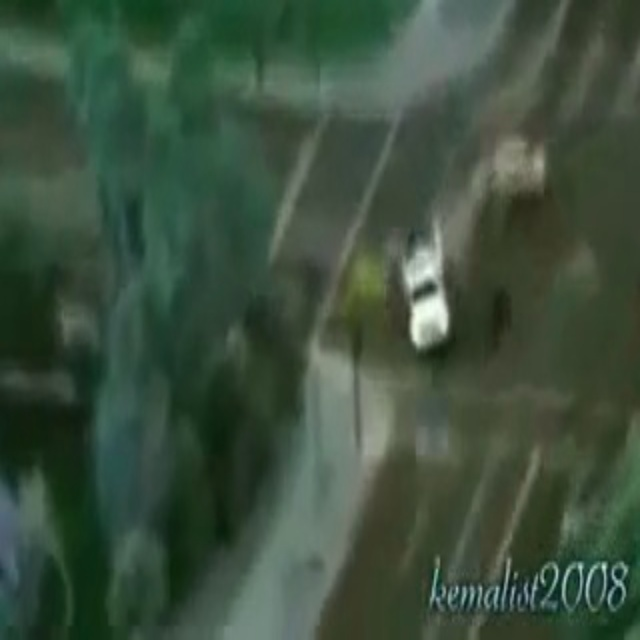acc: (401, 128, 549, 359)
